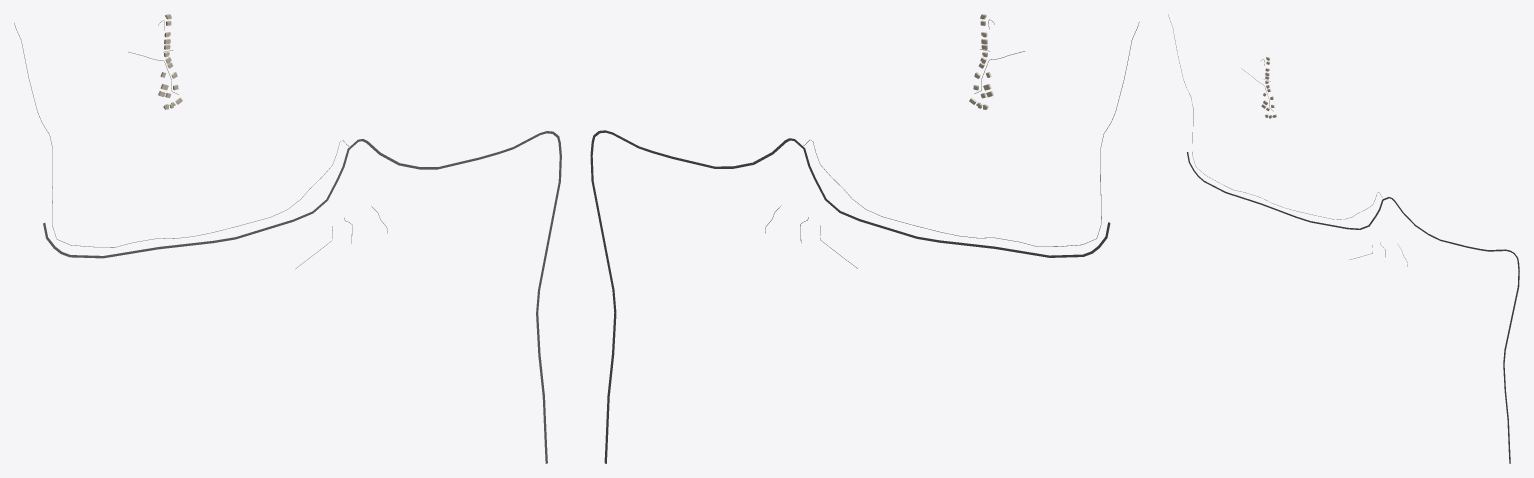
File: historic-palestine-11_33_3533_3277.glb
3 renders of one model, left to right at view 1: azimuth 30°, elevation 25°; view 2: azimuth 150°, elevation 25°; view 3: azimuth 330°, elevation 25°, orthographic. The views are drawn at different scales.
Visible parts, largest first — view 1: Road 7850, Road .006; view 2: Road 7850, Road .006; view 3: Road 7850.
Part boxes in pixels (x1,y1,x2,y2): Road 7850: (43,131,561,463); Road .006: (14,23,349,247); Road 7850: (590,130,1110,463); Road .006: (803,22,1139,246); Road 7850: (1187,152,1519,463).
Size of the model in its own units: 1919 by 1911 by 8.7.
